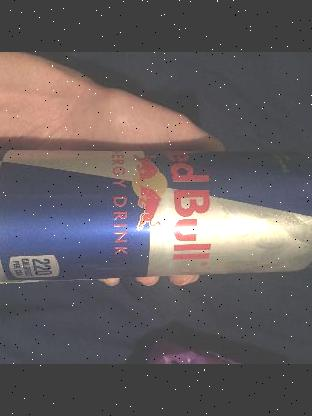Can: (0, 143, 312, 285)
